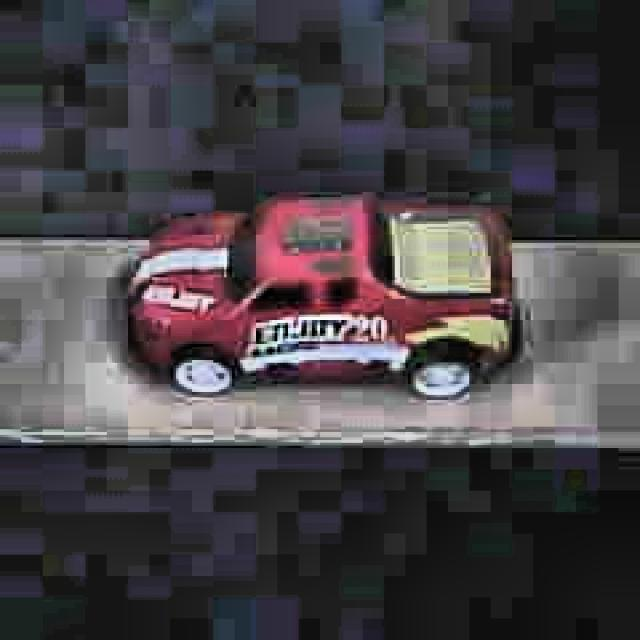car: (124, 192, 521, 403)
